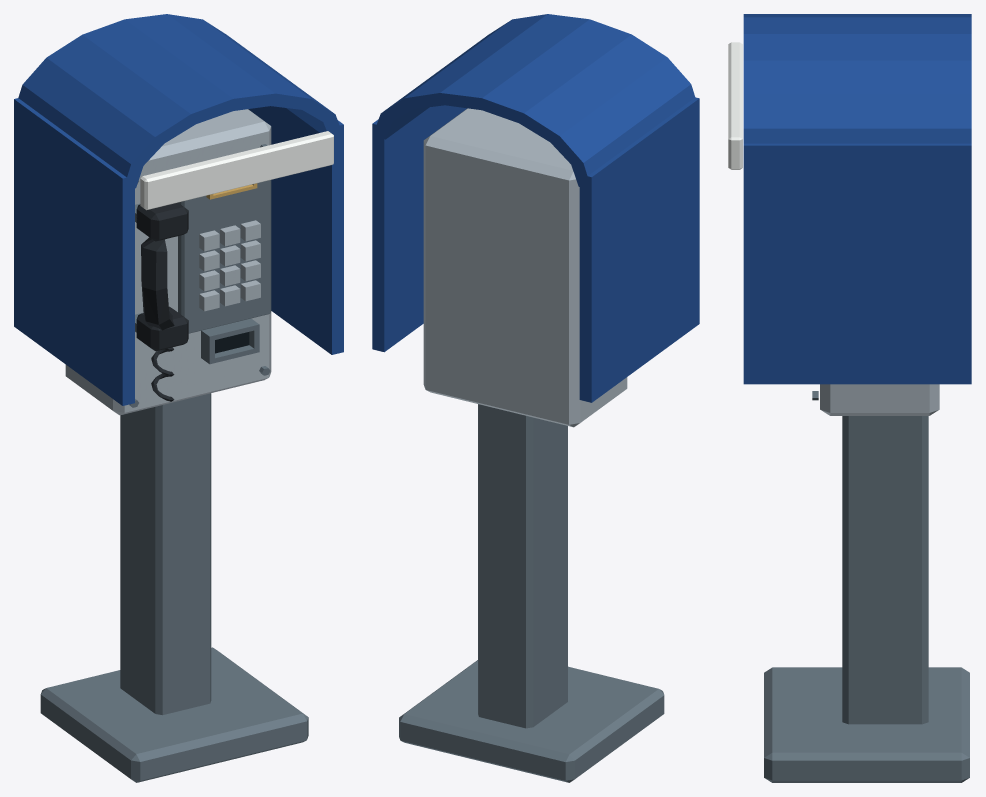
File: vintage_payphone_kiosk.fbx
3 views of the same model, side by side, from view 1: azimuth 30°, elevation 25°; view 2: azimuth 150°, elevation 25°; view 3: azimuth 270°, elevation 25° (orthographic). The views are drawn at different scales.
Parts seen in each view (by area): view 1: vintage_payphone_kiosk; view 2: vintage_payphone_kiosk; view 3: vintage_payphone_kiosk.
Part boxes in pixels (x1,y1,x2,y2): vintage_payphone_kiosk: (14,14,343,782); vintage_payphone_kiosk: (372,14,699,782); vintage_payphone_kiosk: (728,14,971,782).
Size of the model in its own units: 220 by 640 by 200.
